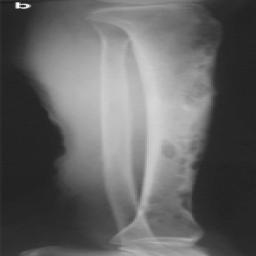cancer: (131, 22, 214, 238)
